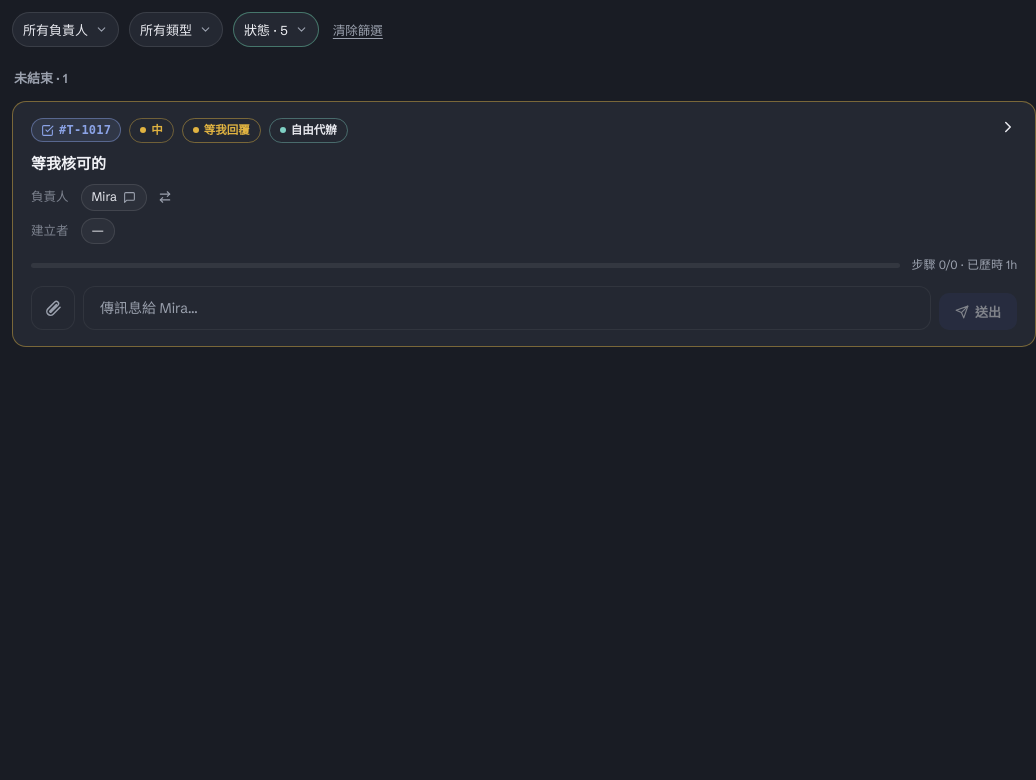
Scenario: TasksPage › embeds the armed gate's reply card; answering flips it to answered in place
Click the button with test id "task-card". click: (524, 332)
box: 12,100 -> 1035,347
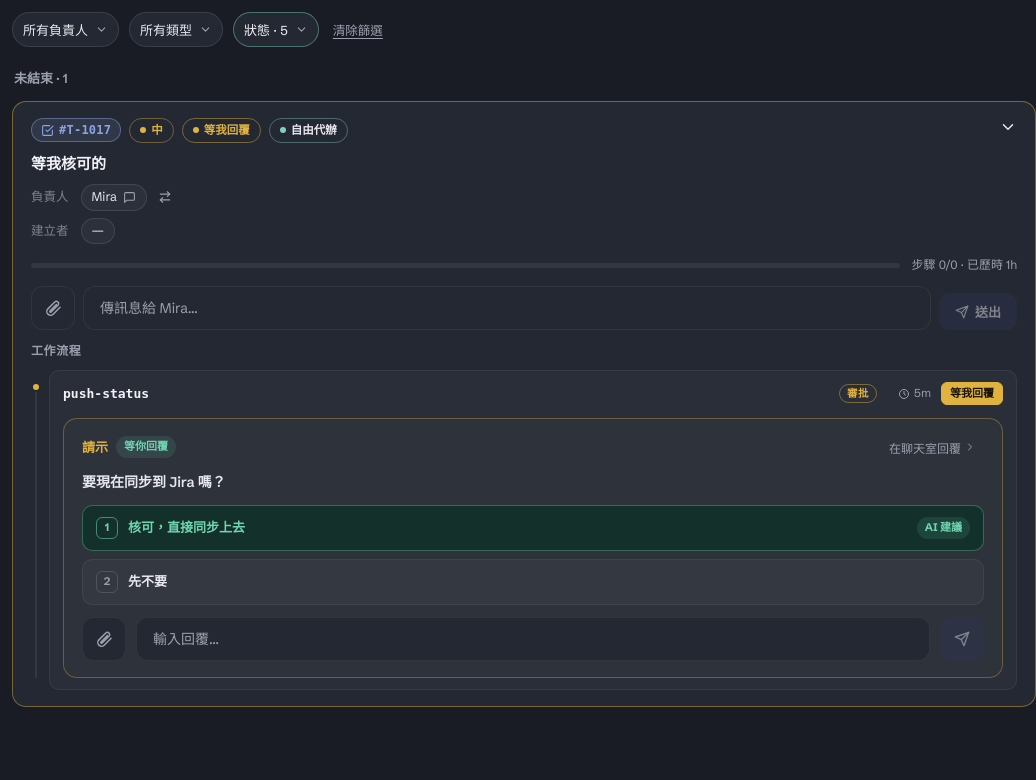
Expected: the number of buttons with class "reply-option" is 2
Expected: the button with class "reply-option" shows "AI 建議"
Note: Answer by option → the card flips answered in place.
Click the button with class "reply-option" showing "1 核可，直接同步上去 AI 建議". click: (187, 527)
box: 82,505 -> 984,551
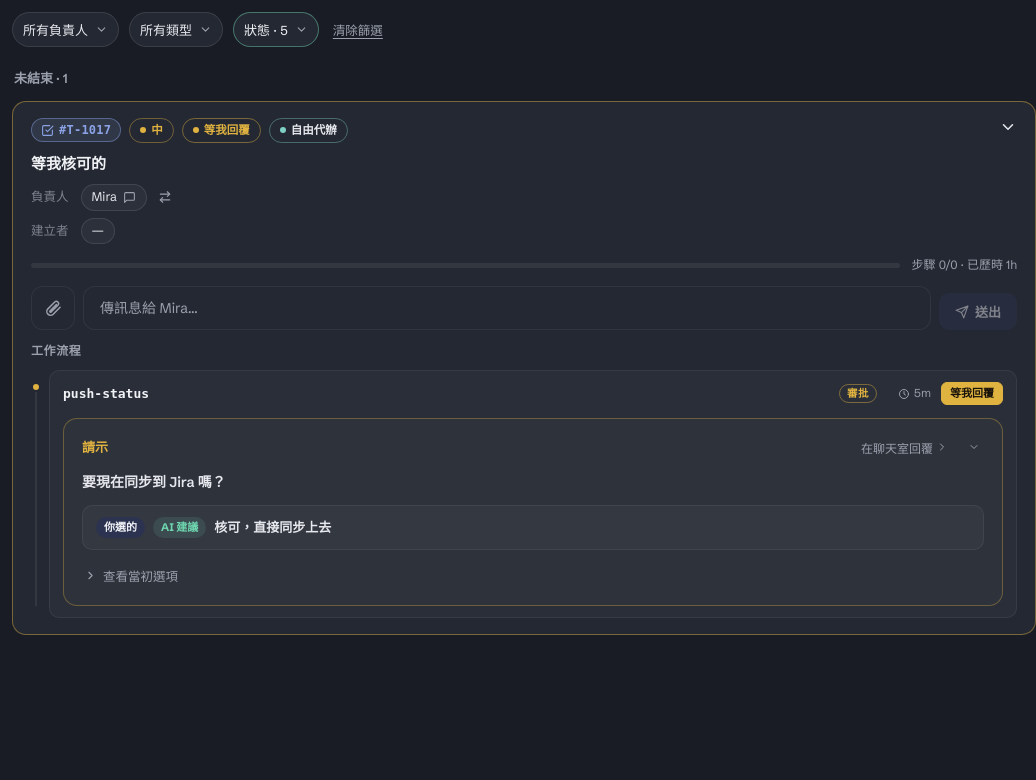
Expected: the element with test id "final-answer" shows "你選的", 104,520 -> 137,534
